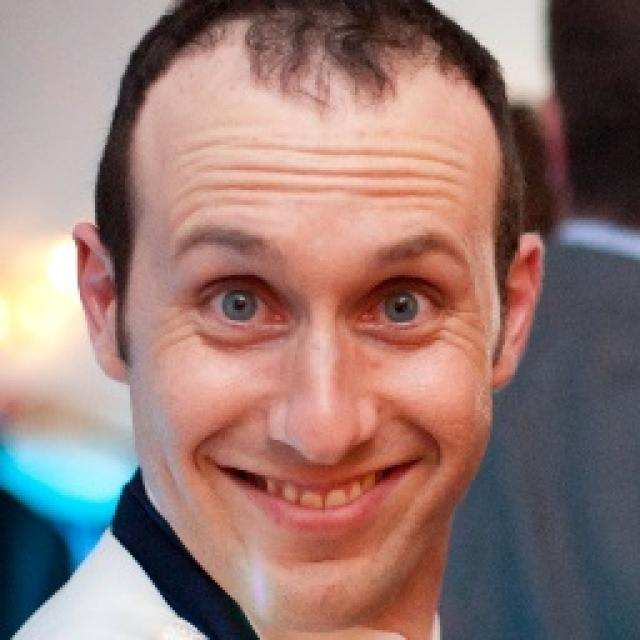earlobe: (72, 220, 129, 388), (492, 231, 544, 392)
